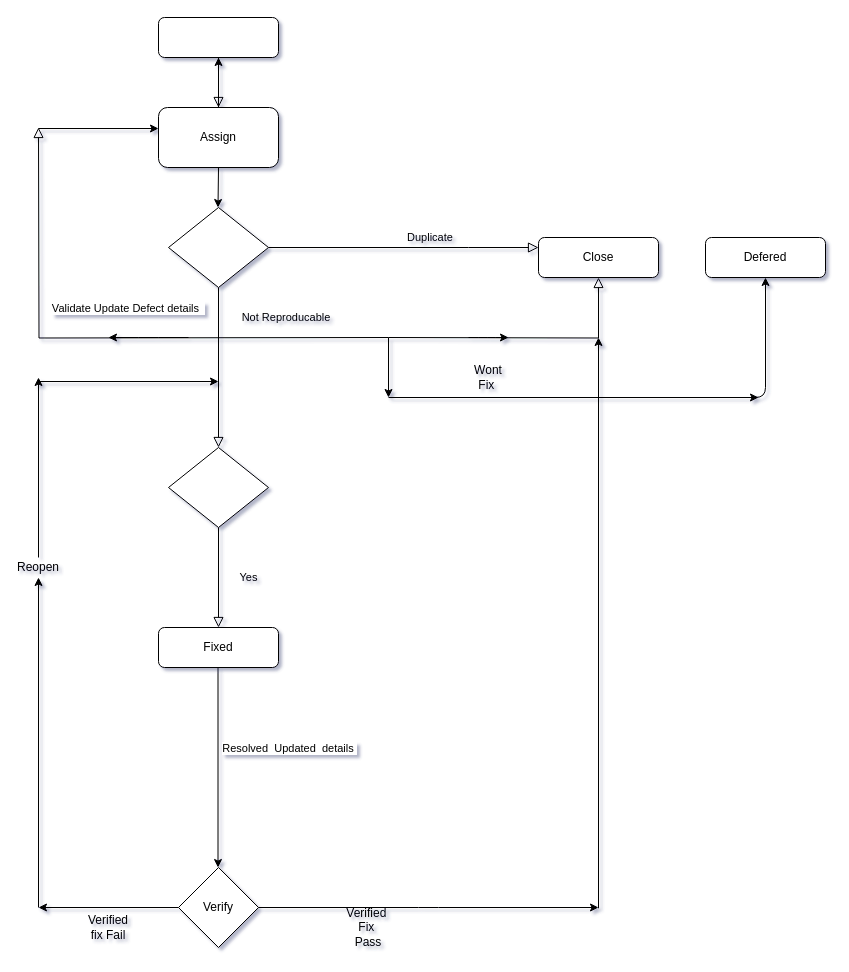
The diagram is 849 pixels wide and 972 high, and some of its shapes have lost their labels. Here are the shapes that lost their labels. From the top down, the box of each, then its label:
(158, 16, 278, 58): New
(168, 206, 268, 288): Open
(168, 446, 268, 528): Accepted
